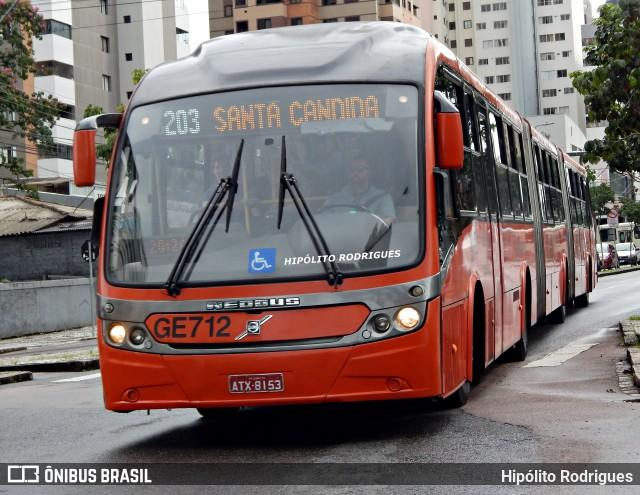SANTA CANDIDA: (208, 91, 389, 137)
